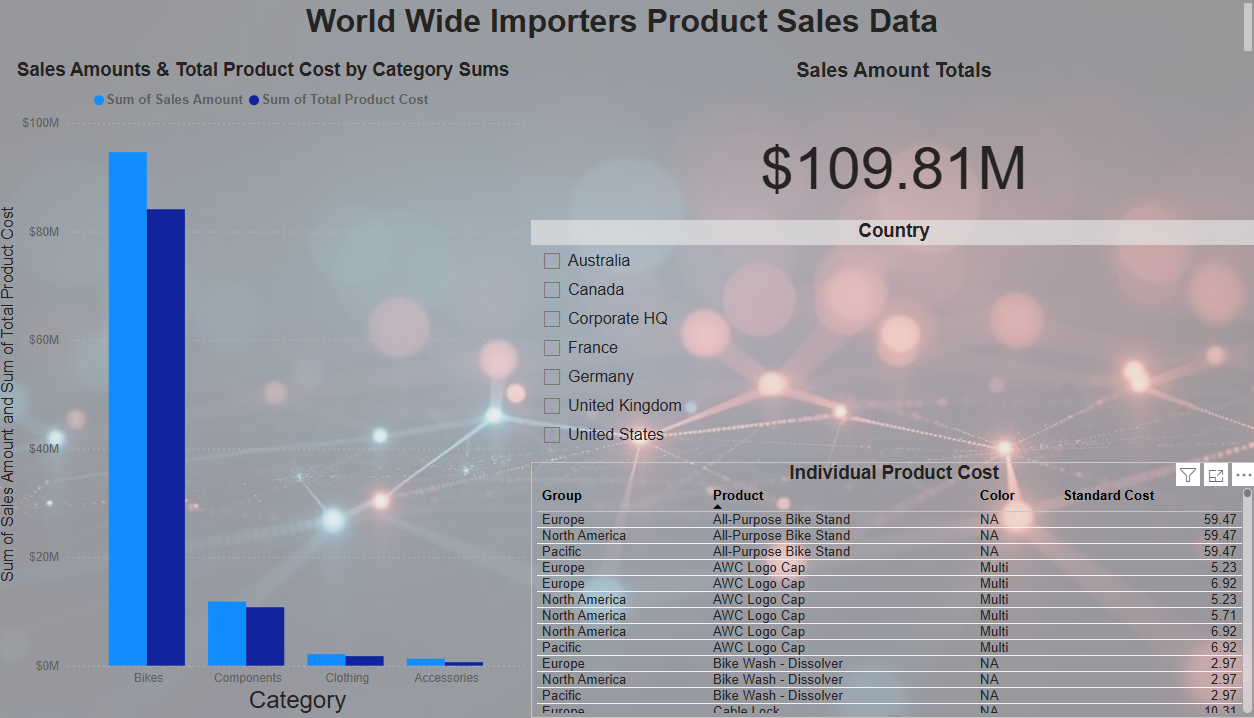

This screenshot's page, from the dashboard's own definition file:
{"tool":"powerbi","page":{"name":"Product Sales Data","canvas":[1280,720],"ordinal":0},"visuals":[{"type":"clusteredColumnChart","title":"Sales Amounts & Total Product Cost by Category Sums","fields":{"Y":["Sum(FactSales.Sales Amount)","Sum(FactSales.Total Product Cost)"],"Category":["DimProducts.Category"]},"box":[18,61,536,659],"z":0},{"type":"card","title":"Sales Amount Totals","fields":{"Values":["Sum(FactSales.Sales Amount)"]},"box":[554,61,726,186],"z":1000},{"type":"slicer","title":"Country","fields":{"Values":["DimSalesTerritory.Country"]},"box":[554,222,726,242],"z":2000},{"type":"tableEx","title":"Individual Product Cost","fields":{"Values":["DimSalesTerritory.Group","DimProducts.Product","DimProducts.Color","DimProducts.Standard Cost"]},"box":[554,464,726,256],"z":3000},{"type":"textbox","box":[18,0,1262,61],"z":4000}]}

Visuals, with their boxes in screenshot pixels (x1, y1, x2, y2), scaled from the page's 1280x720 canvas onto the 1254x718 screenshot:
"Sales Amounts & Total Product Cost by Category Sums" clusteredColumnChart: pyautogui.locateOnScreen(18, 61, 543, 717)
"Sales Amount Totals" card: pyautogui.locateOnScreen(543, 61, 1253, 246)
"Country" slicer: pyautogui.locateOnScreen(543, 221, 1253, 463)
"Individual Product Cost" tableEx: pyautogui.locateOnScreen(543, 463, 1253, 717)
textbox: pyautogui.locateOnScreen(18, 0, 1253, 61)
